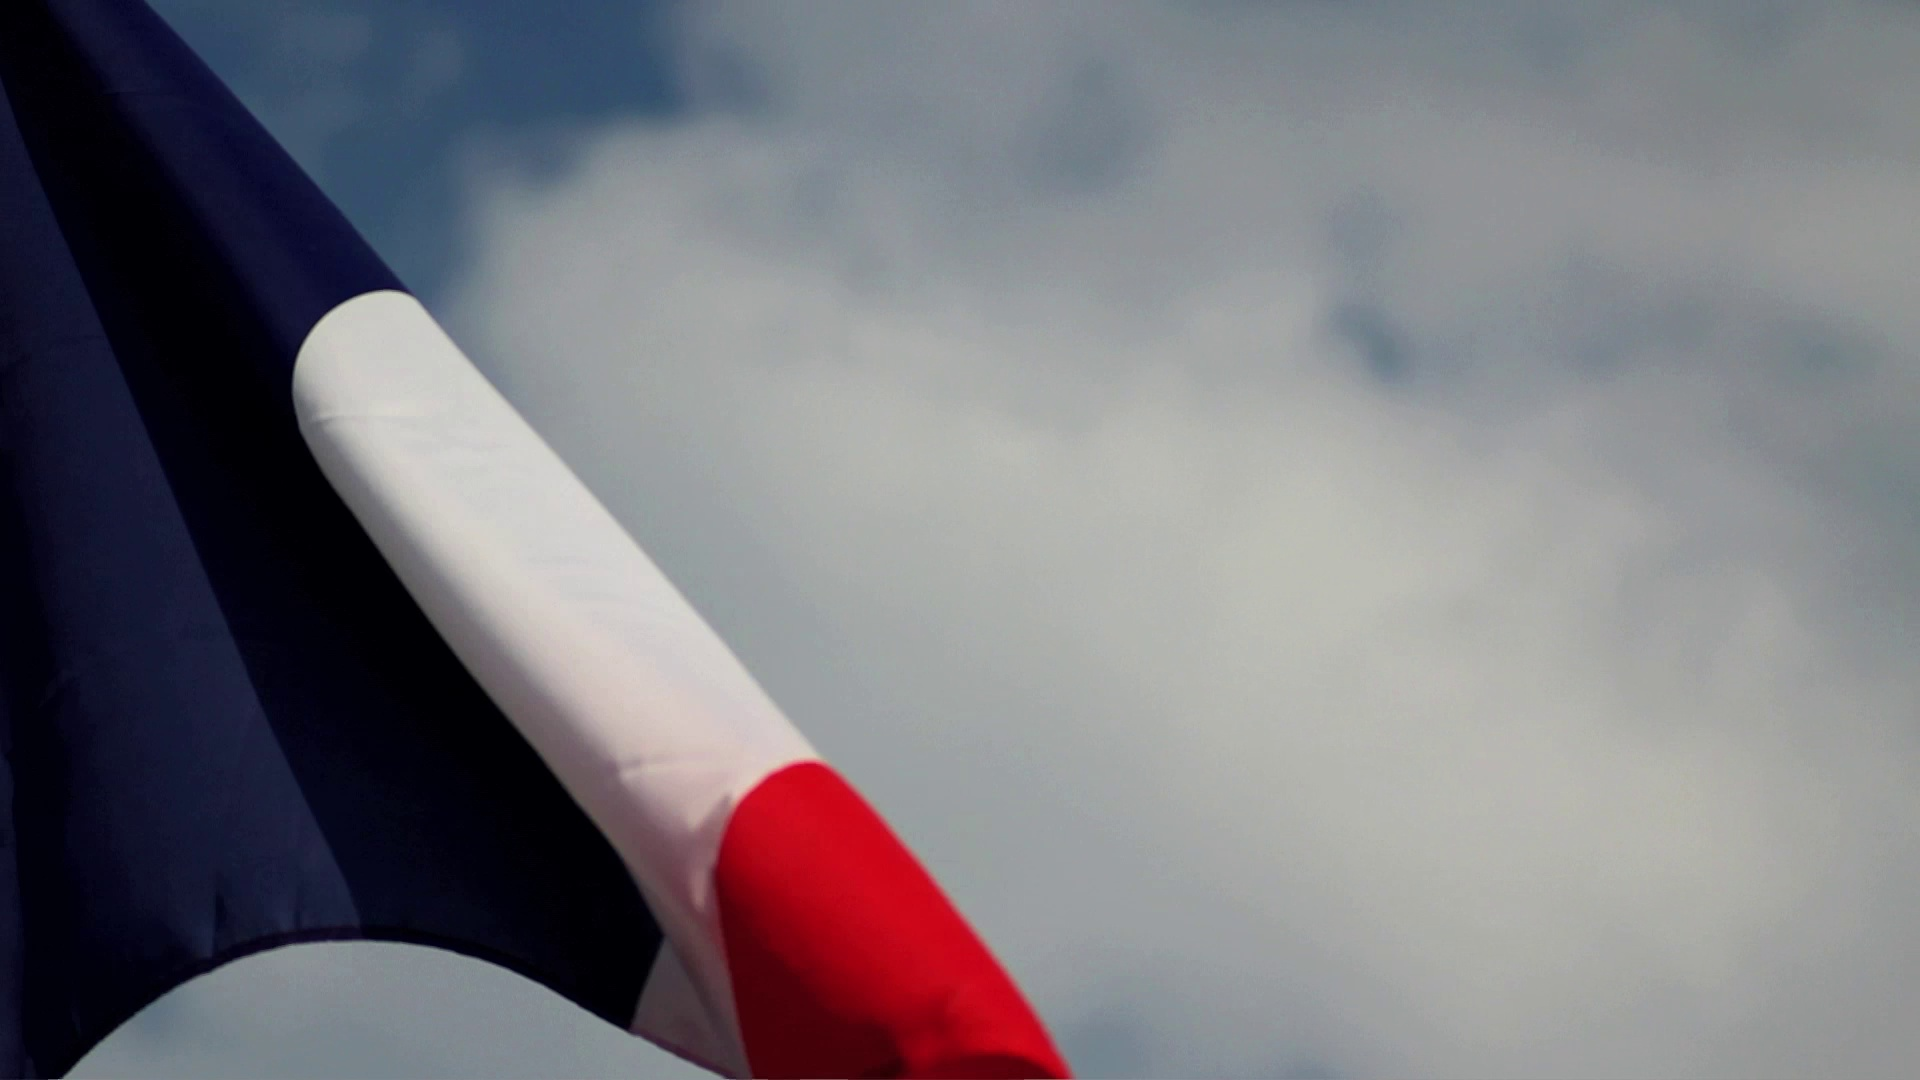French Flag: (1, 1, 1060, 1080)
